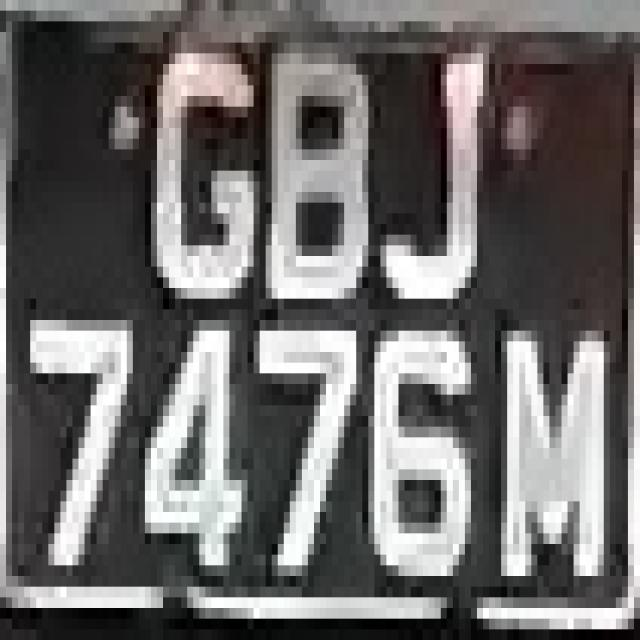4: (126, 288, 254, 597)
6: (350, 320, 483, 597)
7: (242, 277, 362, 619), (18, 288, 133, 587)
B: (259, 21, 386, 320)
G: (126, 21, 272, 352)
J: (374, 32, 514, 309)
M: (489, 288, 634, 608)
